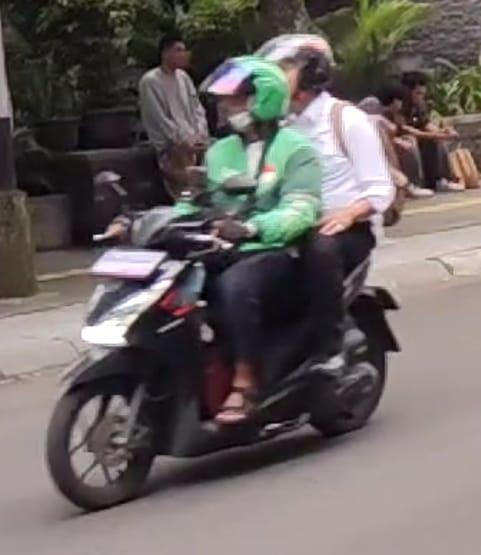helm: (197, 54, 291, 135), (253, 31, 337, 99)
riding: (45, 32, 404, 512)
